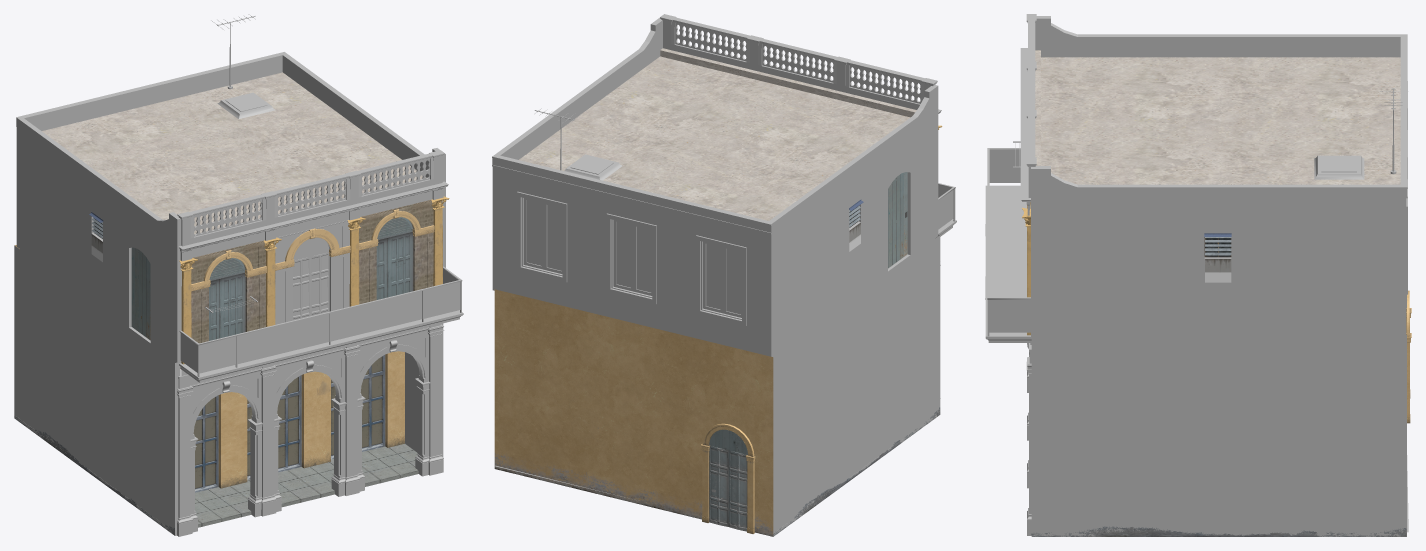
Rendered from Cuban House Modified.fbx.
3 renders of one model, left to right at view 1: azimuth 30°, elevation 25°; view 2: azimuth 150°, elevation 25°; view 3: azimuth 270°, elevation 25°, orthographic. The views are drawn at different scales.
Visible parts, largest first — view 1: Roof, Wall_Module_Side_1, Wall_Module_Side_5, Wall_Module_5, Wall_Module_6, Wall_Module_2, Base_Arc_1, Floor, Wall_Module_Base_3, Base_Arc_3, Wall_Module_Back_3, Wall_Module_Base_1 (+10 smaller); view 2: Wall_Module_Back_1, Wall_Module_Back_3, Roof, Wall_Module_Side_1, Wall_Module_Side_5, Backdoor, Wall_Module_Side_6, Wall_Module_2, Wall_Module_5, Wall_Module_6, Sidewall_door, Trapdoor (+2 smaller); view 3: Wall_Module_Side_3, Wall_Module_Side_6, Roof, Wall_Module_Side_5, Balcony_1, Balcony_3, Balcony_2, Decal_Subtle001, Wall_Module_Back_3, Wall_Module_5, Trapdoor, Wall_Module_2 (+4 smaller).
Part boxes in pixels (x1,y1,x2,y2): Roof: [42, 72, 426, 234]; Wall_Module_Side_1: [14, 245, 179, 535]; Wall_Module_Side_5: [16, 117, 181, 364]; Wall_Module_5: [347, 150, 449, 306]; Wall_Module_6: [177, 194, 281, 364]; Wall_Module_2: [261, 170, 363, 324]; Base_Arc_1: [247, 344, 365, 517]; Floor: [195, 444, 418, 527]; Wall_Module_Base_3: [316, 351, 404, 464]; Base_Arc_3: [357, 324, 444, 476]; Wall_Module_Back_3: [16, 52, 284, 130]; Wall_Module_Base_1: [234, 371, 316, 485]; Wall_Module_Back_1: [494, 289, 773, 536]; Wall_Module_Back_3: [492, 155, 771, 356]; Roof: [519, 48, 916, 220]; Wall_Module_Side_1: [773, 234, 940, 536]; Wall_Module_Side_5: [768, 85, 938, 356]; Backdoor: [700, 423, 755, 533]; Wall_Module_Side_6: [493, 17, 662, 159]; Wall_Module_2: [747, 35, 850, 92]; Wall_Module_5: [660, 14, 750, 69]; Wall_Module_6: [845, 60, 942, 129]; Sidewall_door: [849, 172, 907, 267]; Trapdoor: [564, 154, 622, 180]; Wall_Module_Side_3: [1031, 335, 1406, 536]; Wall_Module_Side_6: [1031, 166, 1406, 337]; Roof: [1035, 50, 1400, 184]; Wall_Module_Side_5: [1035, 16, 1405, 57]; Balcony_1: [985, 148, 1026, 235]; Balcony_3: [985, 249, 1033, 344]; Balcony_2: [985, 196, 1026, 287]; Decal_Subtle001: [1031, 526, 1406, 536]; Wall_Module_Back_3: [1400, 34, 1407, 294]; Wall_Module_5: [1020, 116, 1036, 335]; Trapdoor: [1314, 155, 1364, 179]; Wall_Module_2: [1020, 61, 1036, 151].
Size of the model in its own units: 1081 by 1322 by 1248.
